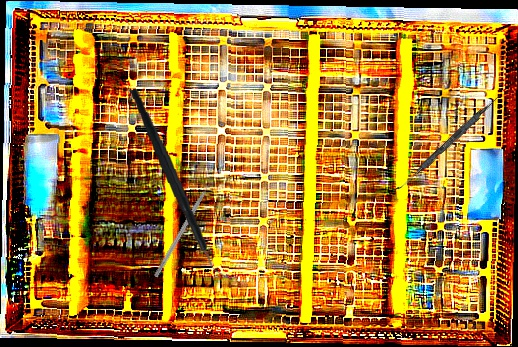Chopper: (127, 83, 232, 283), (153, 177, 220, 282)
Spatula Surgical: (395, 91, 502, 195)
